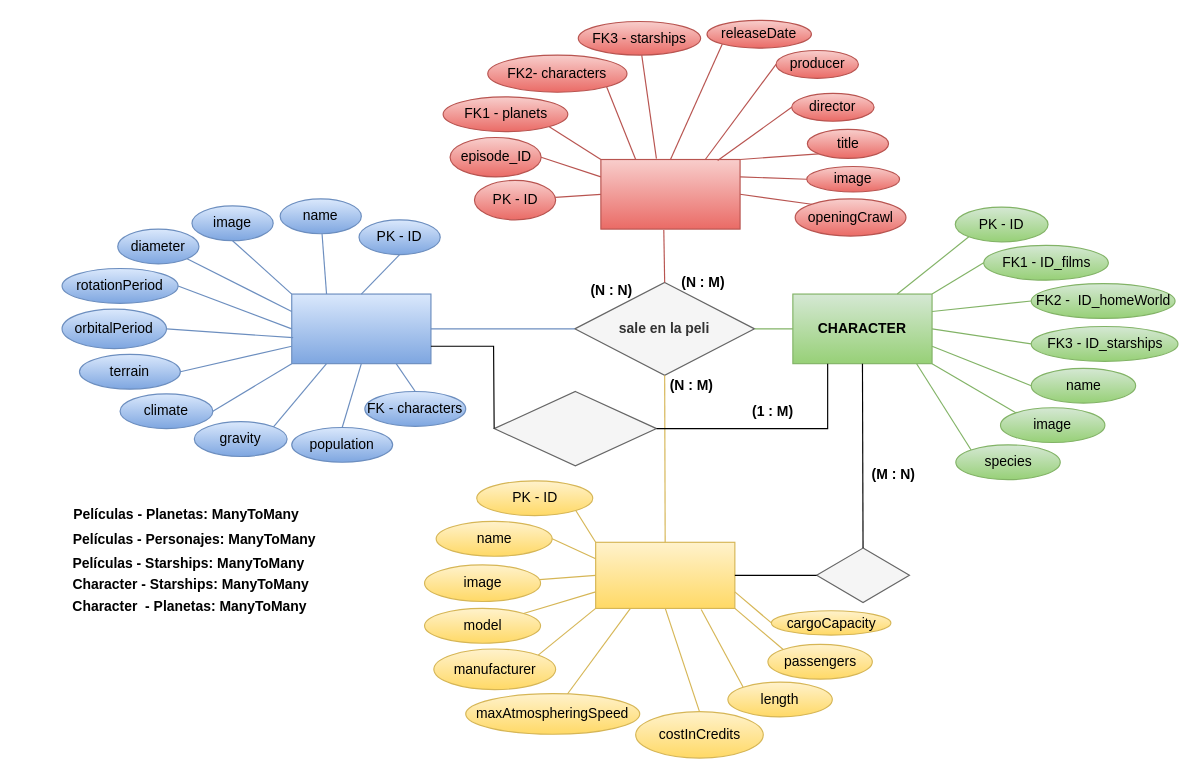
Image size: 1198x778. Some labels were removed from this diagram. Each missing label, with the centre of its shape:
"conduce" belongs at pixel 862 575.
"es su planeta natal" belongs at pixel 575 428.
"FILMS" belongs at pixel 670 193.
"PLANETS" belongs at pixel 361 328.
"STARSHIPS" belongs at pixel 664 574.
